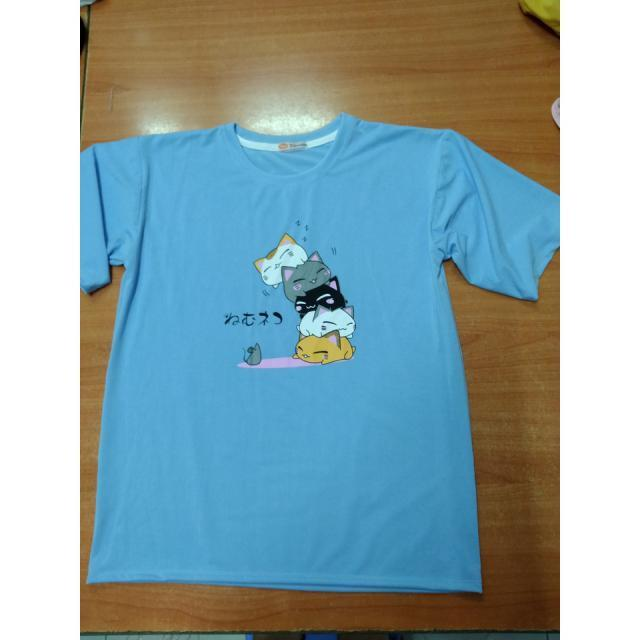Shirt: (78, 112, 560, 599)
